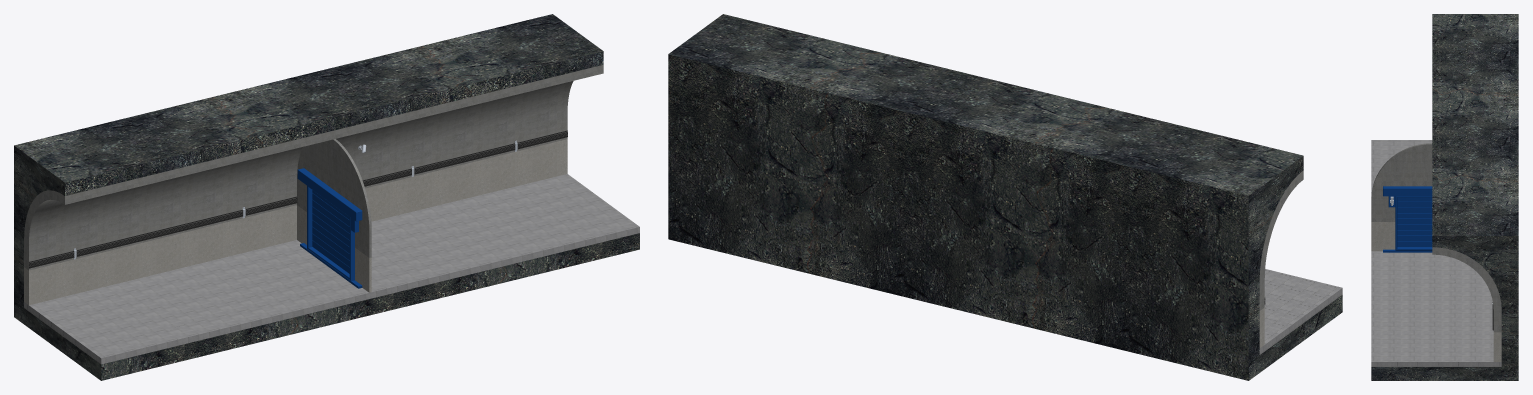
File: fengchuang.FBX
The picture shows the model from 3 angles, left to right: view 1: azimuth 30°, elevation 25°; view 2: azimuth 150°, elevation 25°; view 3: azimuth 270°, elevation 25°; orthographic projection. The views are drawn at different scales.
Visible parts, largest first — view 1: hd-lyd-1121-34, hd-lyd-1121-11, hd-lyd-1121-24, fengchuang01; view 2: hd-lyd-1121-11, hd-lyd-1121-34; view 3: hd-lyd-1121-11, hd-lyd-1121-34, fengchuang01, name-02, name-05, name-08, name-03, name-04, name-06, name-07, name-09, name-01.
Part boxes in pixels (box(x1,y1,x2,y2)): hd-lyd-1121-34: box(24, 65, 639, 364); hd-lyd-1121-11: box(14, 14, 639, 380); hd-lyd-1121-24: box(29, 130, 567, 268); fengchuang01: box(297, 168, 362, 288); hd-lyd-1121-11: box(668, 14, 1342, 380); hd-lyd-1121-34: box(1259, 170, 1342, 354); hd-lyd-1121-11: box(1371, 14, 1518, 380); hd-lyd-1121-34: box(1371, 140, 1501, 366); fengchuang01: box(1383, 186, 1432, 252); name-02: box(1397, 201, 1432, 207); name-05: box(1397, 218, 1432, 224); name-08: box(1397, 235, 1432, 241); name-03: box(1397, 207, 1432, 212); name-04: box(1397, 213, 1432, 218); name-06: box(1397, 224, 1432, 229); name-07: box(1397, 230, 1432, 235); name-09: box(1397, 241, 1432, 246); name-01: box(1397, 197, 1432, 201).
Bounding box in the file's own units: 1290 × 393 × 362.
Materials: 10 (10 with a texture image).
